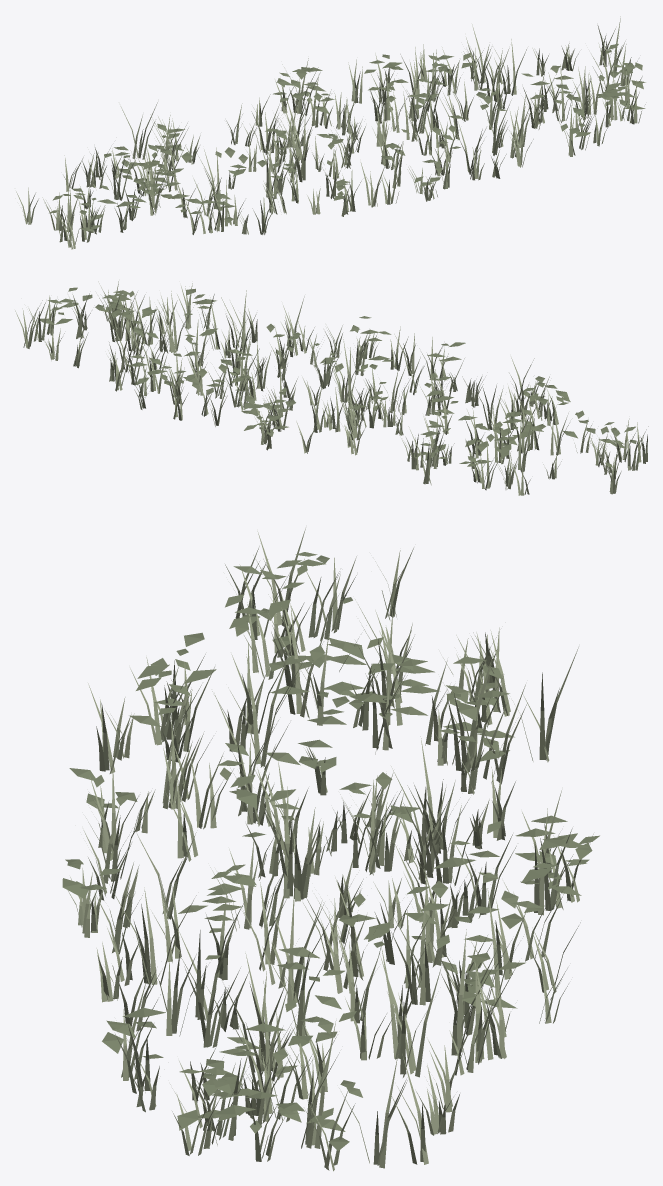
File: AE_Encroachment_10.fbx
3 views of the same model, one above another, from view 1: azimuth 30°, elevation 25°; view 2: azimuth 150°, elevation 25°; view 3: azimuth 270°, elevation 25° (orthographic). The views are drawn at different scales.
Parts seen in each view (by area): view 1: AE_Encroachment_10_LOD0; view 2: AE_Encroachment_10_LOD0; view 3: AE_Encroachment_10_LOD0.
Part boxes in pixels (x1=…): AE_Encroachment_10_LOD0: x1=16, y1=16, x2=645, y2=249; AE_Encroachment_10_LOD0: x1=15, y1=281, x2=648, y2=495; AE_Encroachment_10_LOD0: x1=62, y1=528, x2=599, y2=1171.
Size of what is drawn, in the model's own units: 1143 by 113 by 441.
